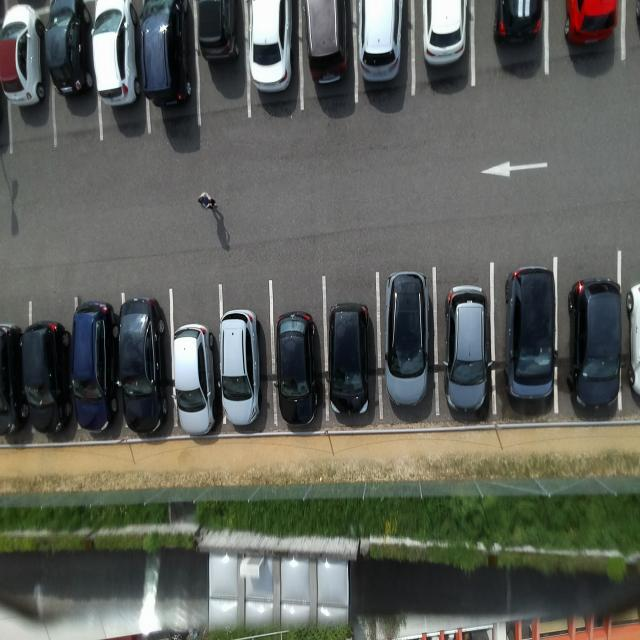car: (505, 265, 564, 404), (566, 278, 622, 415), (384, 270, 436, 411), (117, 296, 169, 437), (443, 282, 493, 420), (72, 301, 120, 434), (22, 319, 73, 437), (92, 1, 144, 112), (327, 302, 375, 422), (171, 323, 219, 438), (219, 310, 265, 428), (276, 309, 321, 429), (45, 1, 97, 100), (1, 3, 46, 108)
